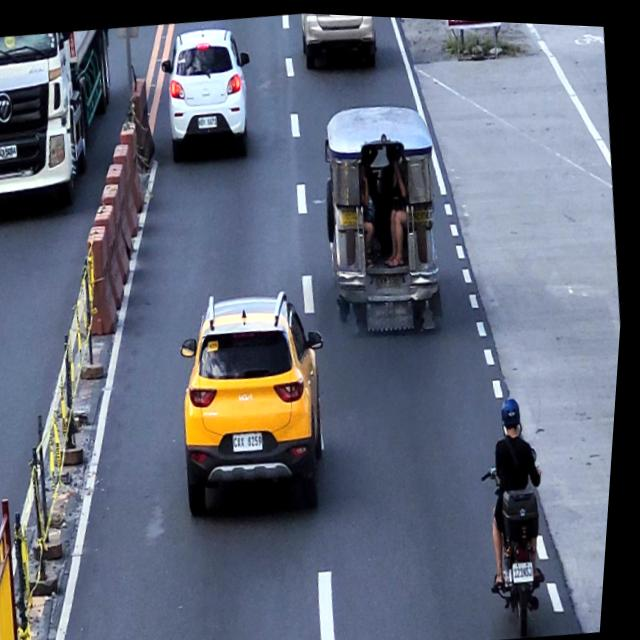Car: (168, 278, 350, 520), (152, 19, 264, 162), (297, 10, 381, 70)
Jeep: (309, 92, 460, 339)
License-Plate: (237, 427, 270, 451), (518, 554, 543, 579), (378, 266, 407, 287), (198, 112, 219, 127), (0, 144, 19, 159)
Motorcycle: (476, 439, 568, 636)
Truck: (0, 23, 129, 220)
